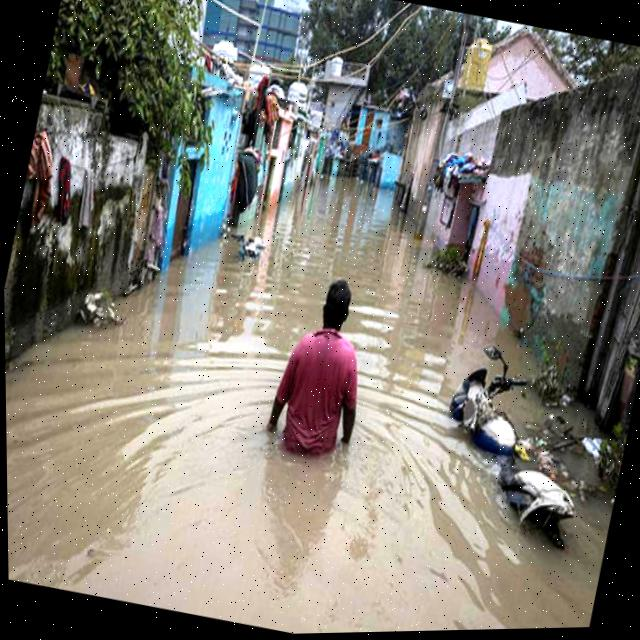civilian: (244, 258, 404, 483)
